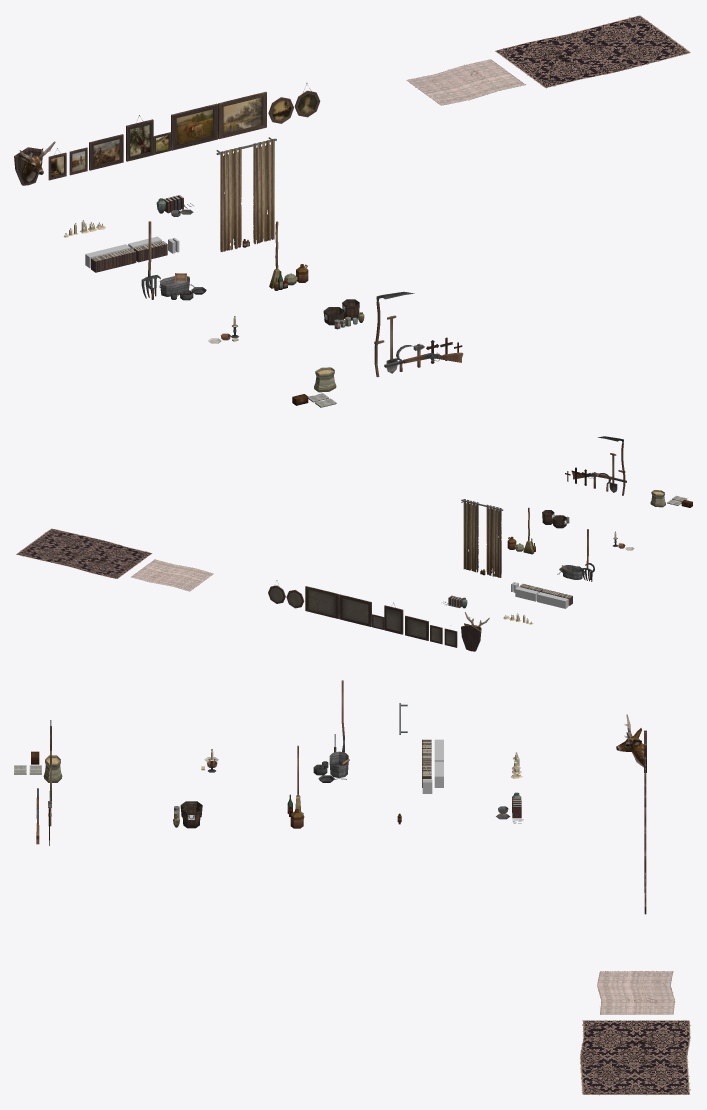
File: Decorations.fbx
3 views of the same model, one above another, from view 1: azimuth 30°, elevation 25°; view 2: azimuth 150°, elevation 25°; view 3: azimuth 270°, elevation 25° (orthographic). The views are drawn at different scales.
Parts seen in each view (by area): view 1: Rug_1, Curtains, Rug_2, Picture.Biggest_2, Picture.Biggest_1, Picture.Big_2, Picture.Big_1, Deer.Head, Book.Row.Long_2; view 2: Rug_1, Curtains, Rug_2, Picture.Biggest_2, Picture.Biggest_1, Deer.Head, Picture.Big_2, Picture.Big_1, Book.Row.Long_1; view 3: Rug_1, Rug_2, Deer.Head.
Boxes of the visible parts, x1,y1,x2,y2 form: Rug_1: [495, 15, 690, 88]; Curtains: [216, 137, 276, 251]; Rug_2: [406, 59, 525, 105]; Picture.Biggest_2: [218, 91, 266, 139]; Picture.Biggest_1: [171, 103, 217, 150]; Picture.Big_2: [126, 115, 153, 161]; Picture.Big_1: [89, 134, 123, 170]; Deer.Head: [14, 141, 55, 185]; Book.Row.Long_2: [91, 248, 136, 272]; Rug_1: [16, 528, 152, 578]; Curtains: [461, 499, 503, 577]; Rug_2: [130, 559, 213, 591]; Picture.Biggest_2: [305, 586, 339, 618]; Picture.Biggest_1: [339, 594, 371, 626]; Deer.Head: [461, 612, 489, 651]; Picture.Big_2: [384, 602, 403, 634]; Picture.Big_1: [405, 615, 428, 640]; Book.Row.Long_1: [537, 592, 568, 608]; Rug_1: [580, 1020, 690, 1095]; Rug_2: [597, 971, 674, 1014]; Deer.Head: [616, 714, 646, 772].
Size of the model in its own units: 1509 by 217 by 1257.
